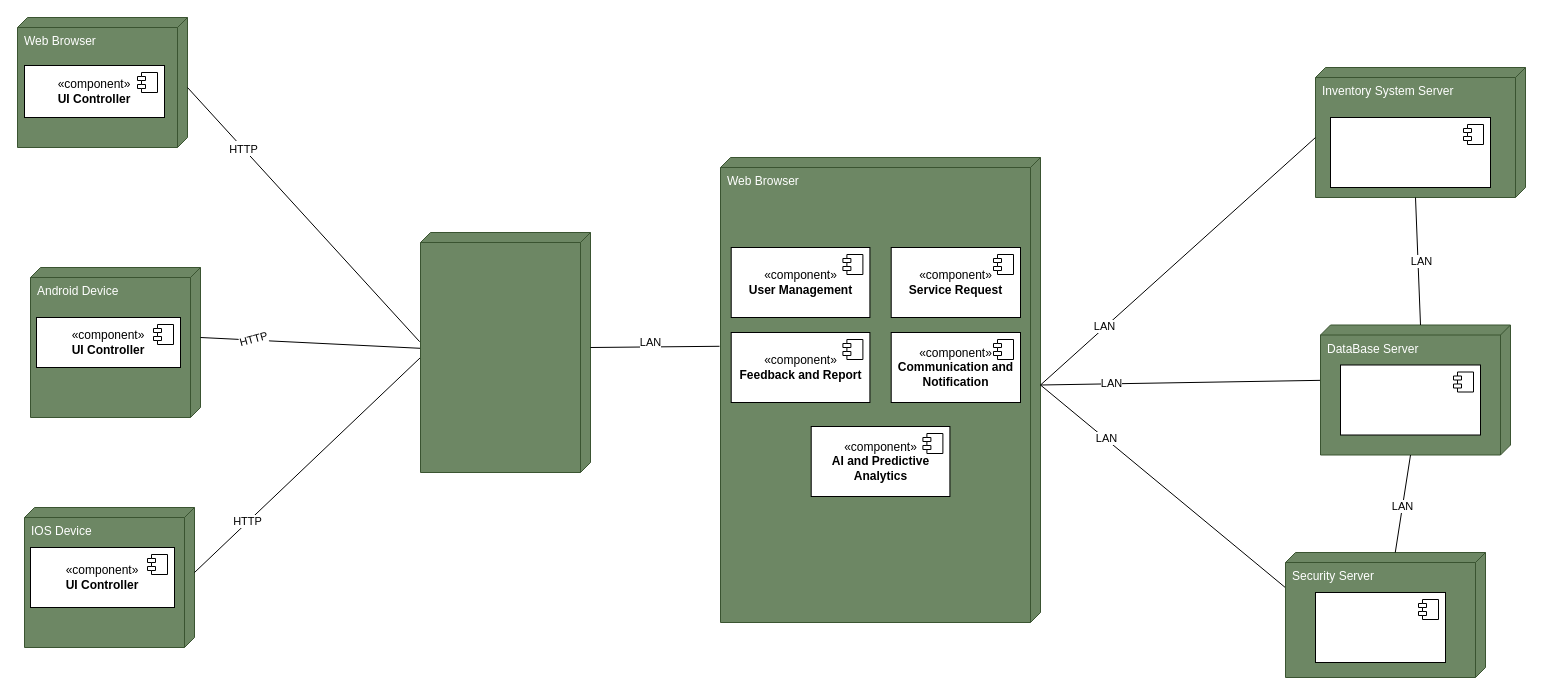
The diagram is 1543 pixels wide and 695 high, and some of its shapes have lost their labels. The centre of each missing label's shape, as x and y in pixels:
Server Load Balancer: point 505,352
«component» DBMS: point 1410,399
«component» Inventory Management: point 1410,152
«component» Security: point 1380,627
